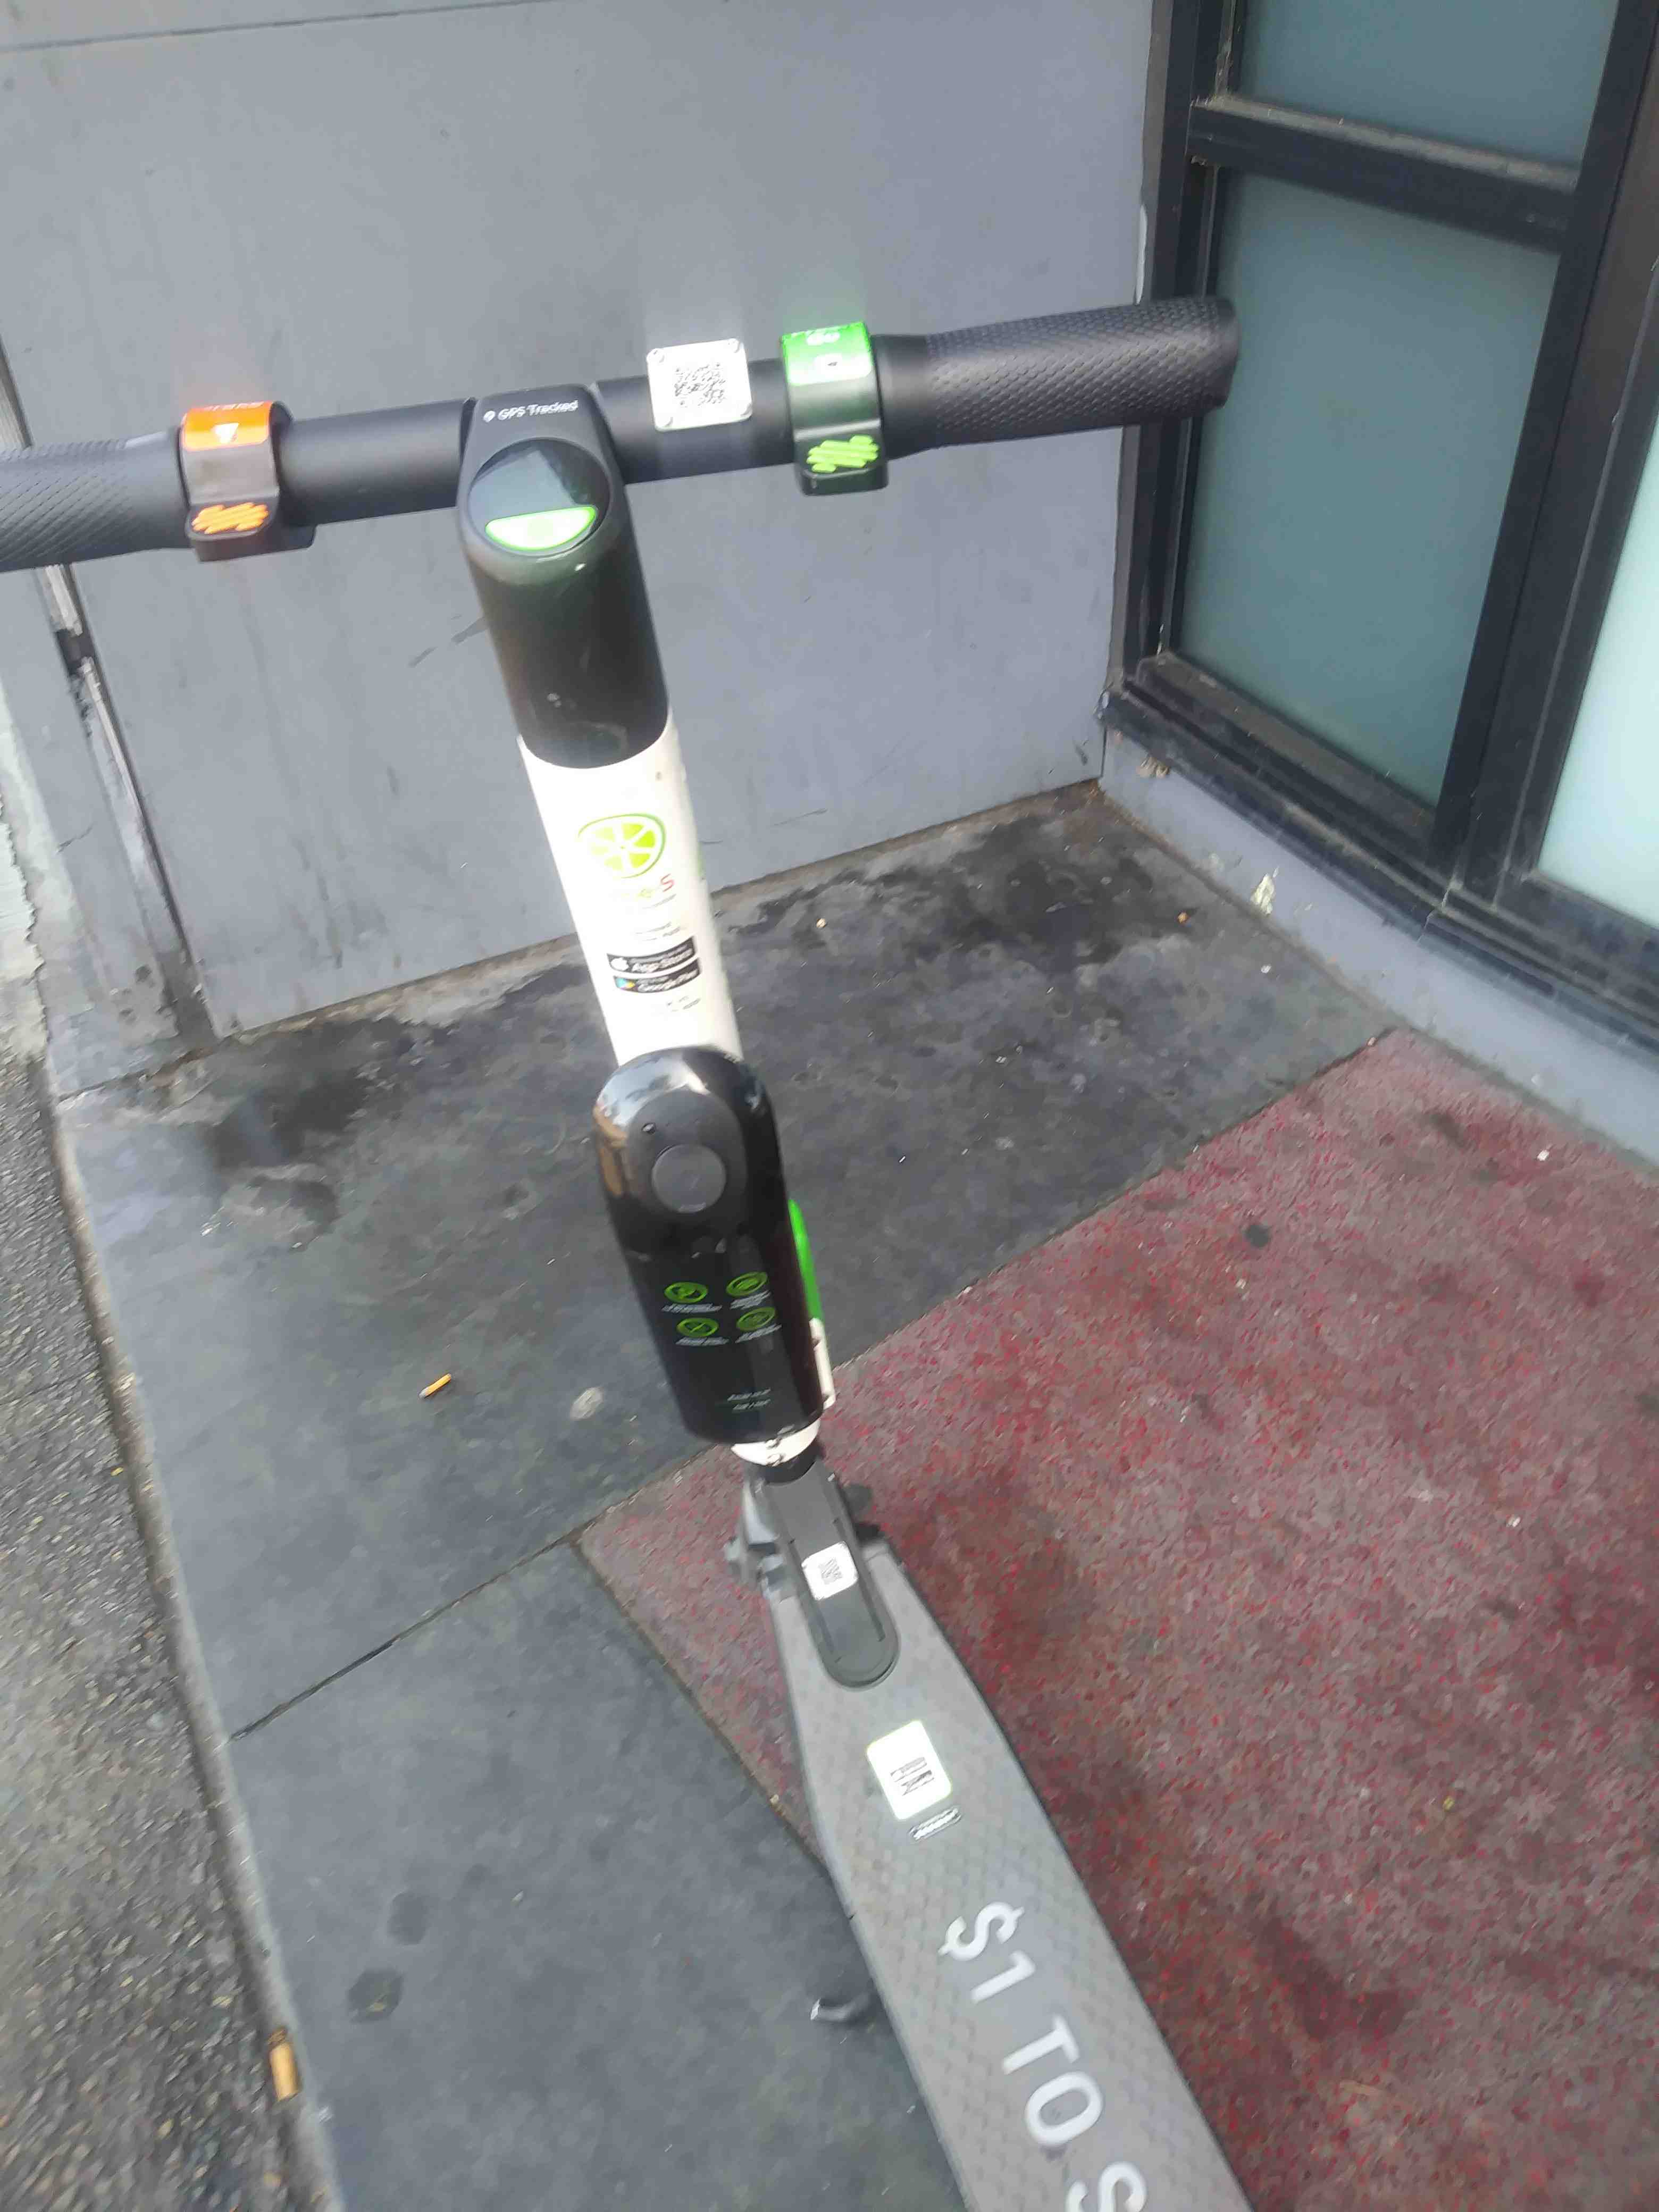scooter: (40, 249, 1483, 2212)
